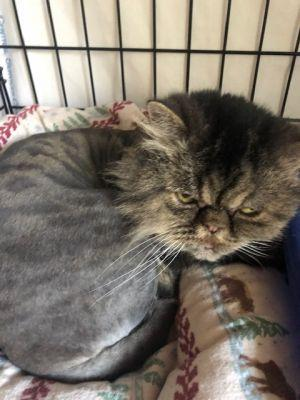persian: (120, 94, 300, 273)
